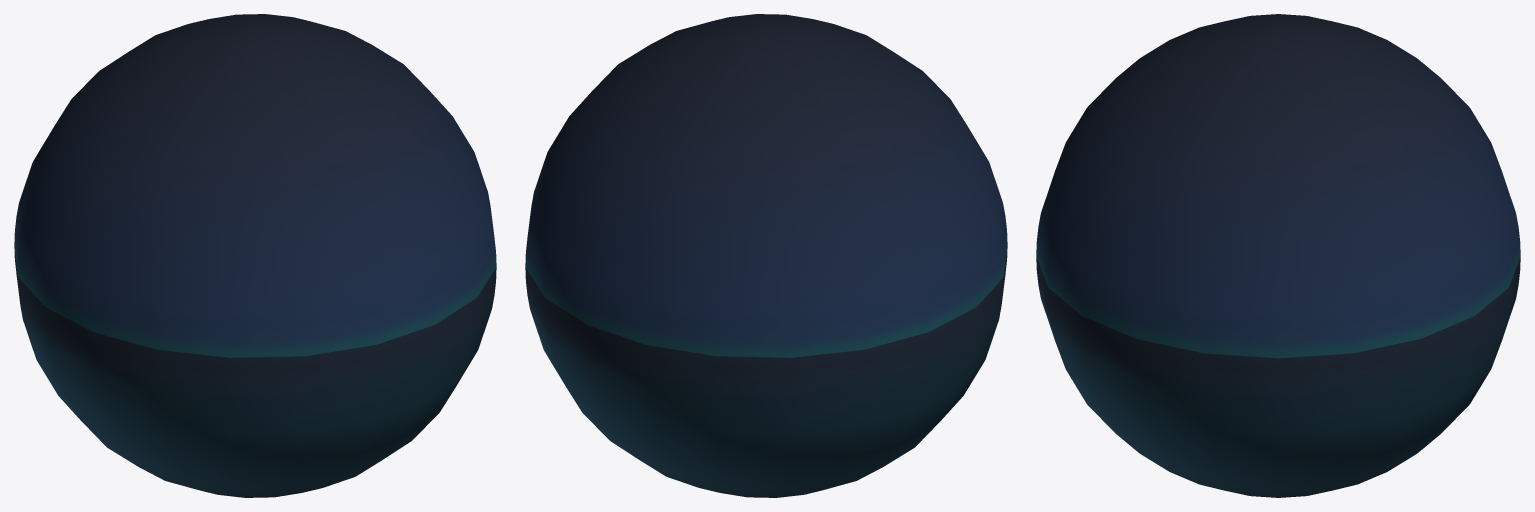
File: S_Sky_Sphere_SkyMonument.fbx
3 views of the same model, side by side, from view 1: azimuth 30°, elevation 25°; view 2: azimuth 150°, elevation 25°; view 3: azimuth 270°, elevation 25° (orthographic).
Visible parts, largest first — view 1: Sky_Sphere_SkyMonument_GEO; view 2: Sky_Sphere_SkyMonument_GEO; view 3: Sky_Sphere_SkyMonument_GEO.
Part boxes in pixels (x1,y1,x2,y2): Sky_Sphere_SkyMonument_GEO: (14,14,496,497); Sky_Sphere_SkyMonument_GEO: (525,14,1007,497); Sky_Sphere_SkyMonument_GEO: (1036,14,1520,497).
Size of the model in its own units: 600 by 600 by 600.
